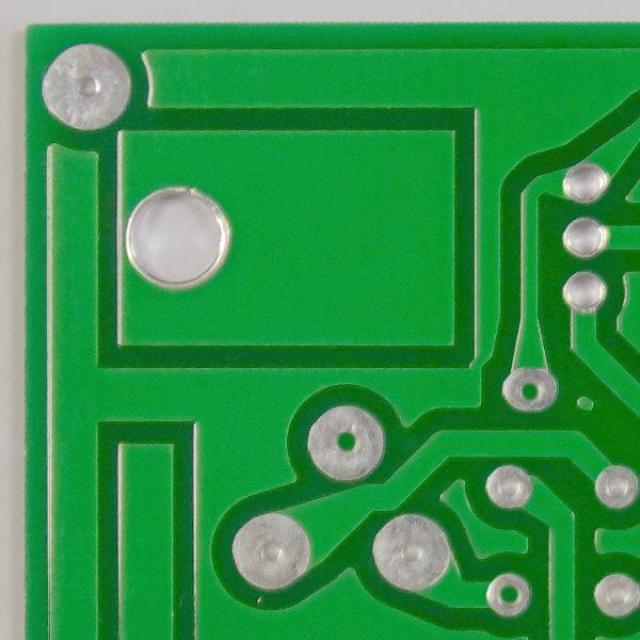Missing_Hole: (302, 402, 391, 490), (495, 361, 562, 416), (480, 566, 537, 623)
